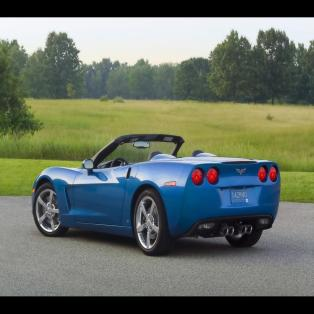Auto: (29, 134, 281, 254)
